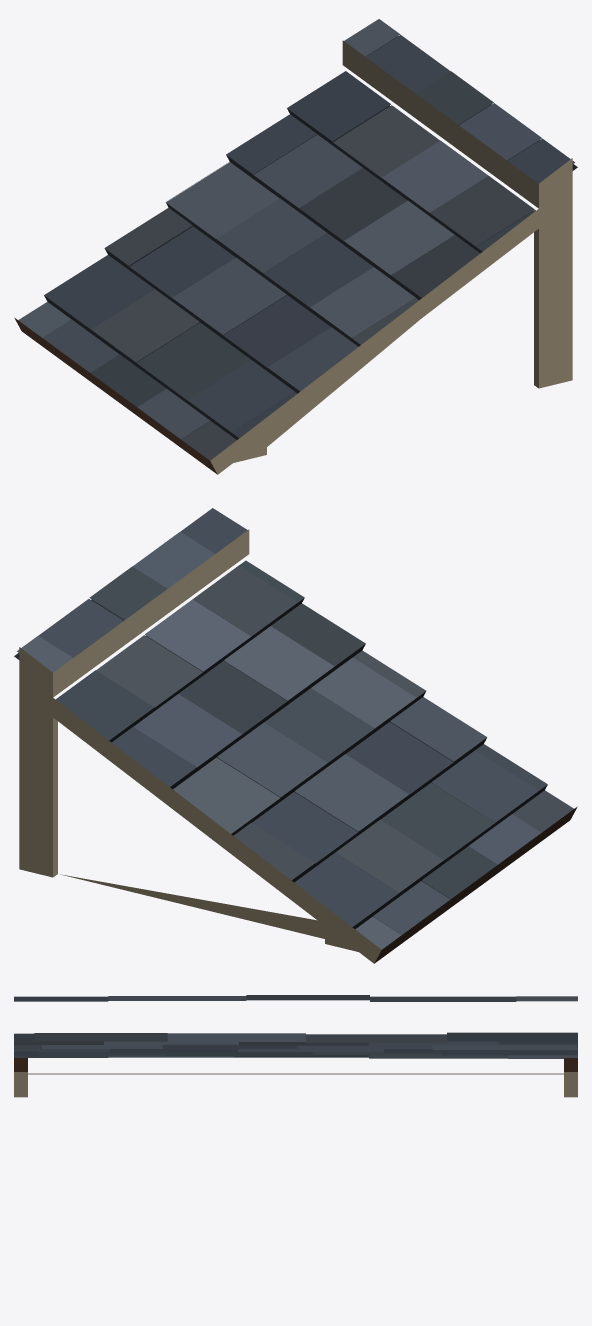
The model's file is roof-slate.glb.
3 renders of one model, top to bottom at view 1: azimuth 30°, elevation 25°; view 2: azimuth 150°, elevation 25°; view 3: azimuth 270°, elevation 25°, orthographic. The views are drawn at different scales.
Parts seen in each view (by area): view 1: roof-slate; view 2: roof-slate; view 3: roof-slate.
Boxes of the visible parts, x1,y1,x2,y2 form: roof-slate: (14,19,577,474); roof-slate: (14,508,577,963); roof-slate: (14,995,577,1097).
Size of the model in its own units: 1.08 by 0.6483 by 1.
